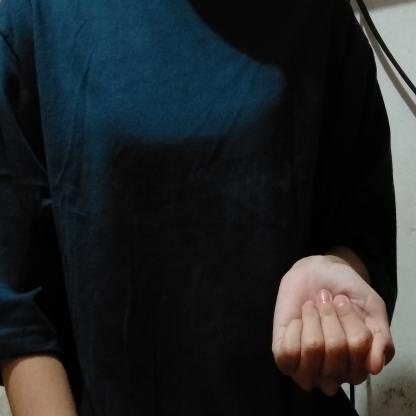where: (253, 239, 403, 404)
